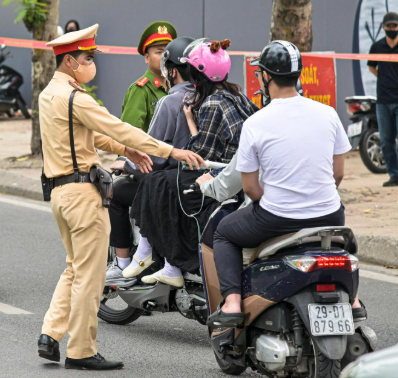Bien-so: (306, 301, 356, 338)
